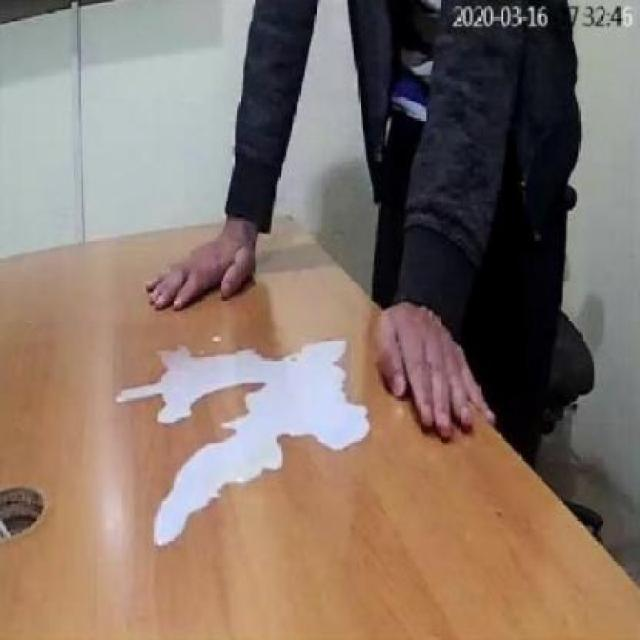spillage: (117, 340, 369, 546)
